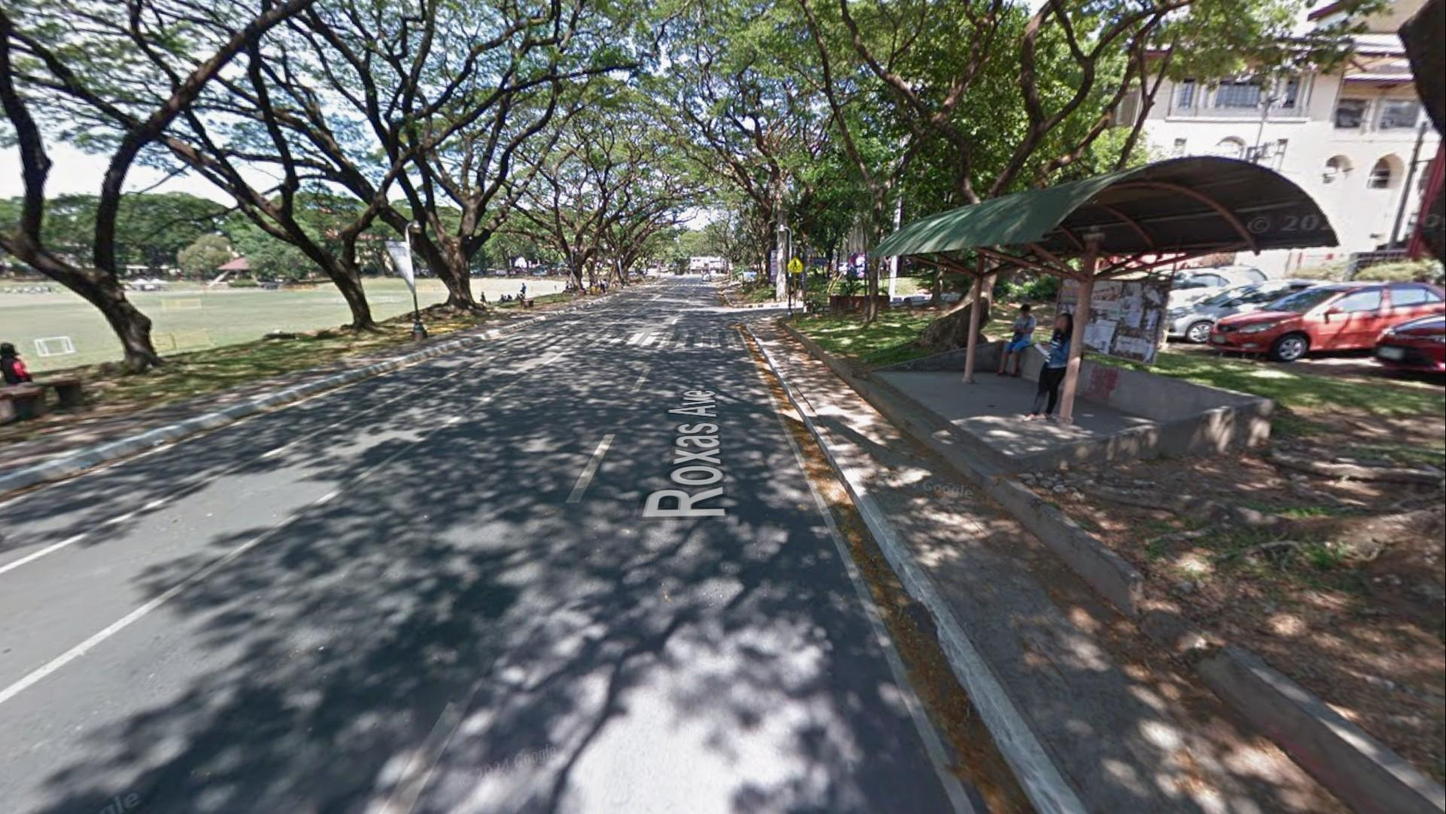pedestrian: (1024, 309, 1083, 424), (996, 304, 1038, 378), (0, 340, 30, 404), (602, 277, 610, 295), (520, 281, 527, 300), (479, 291, 486, 307), (564, 279, 571, 294)
